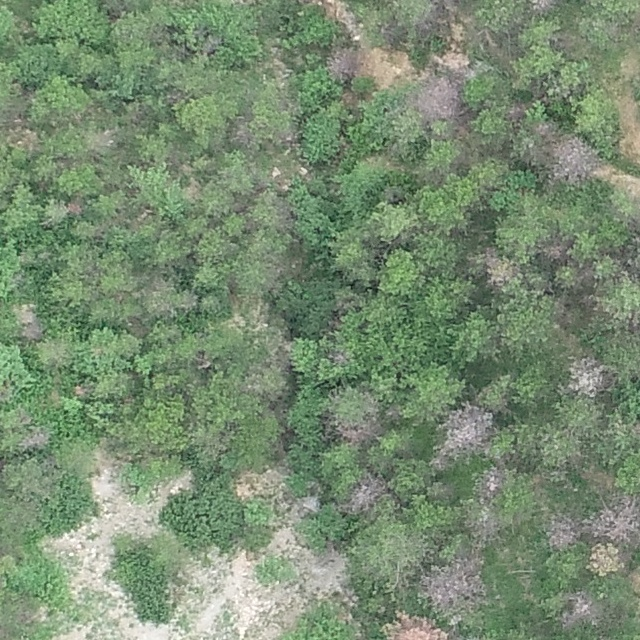unhealthy: (421, 557, 482, 615), (435, 404, 492, 466), (590, 492, 640, 546), (299, 546, 352, 594), (549, 133, 598, 182), (413, 76, 462, 119), (564, 355, 612, 396), (385, 611, 450, 640), (331, 411, 380, 448), (345, 473, 389, 514), (558, 590, 598, 629), (481, 248, 519, 287), (431, 48, 476, 78), (546, 513, 581, 551), (588, 543, 627, 576), (326, 43, 358, 80), (470, 506, 502, 542), (14, 303, 45, 340), (475, 464, 504, 496), (229, 116, 253, 147), (86, 126, 117, 150), (20, 429, 52, 451), (291, 494, 320, 517), (541, 240, 569, 263), (532, 120, 559, 143), (526, 0, 558, 14), (507, 102, 528, 120), (65, 199, 85, 216), (630, 564, 640, 596), (74, 383, 93, 397)
